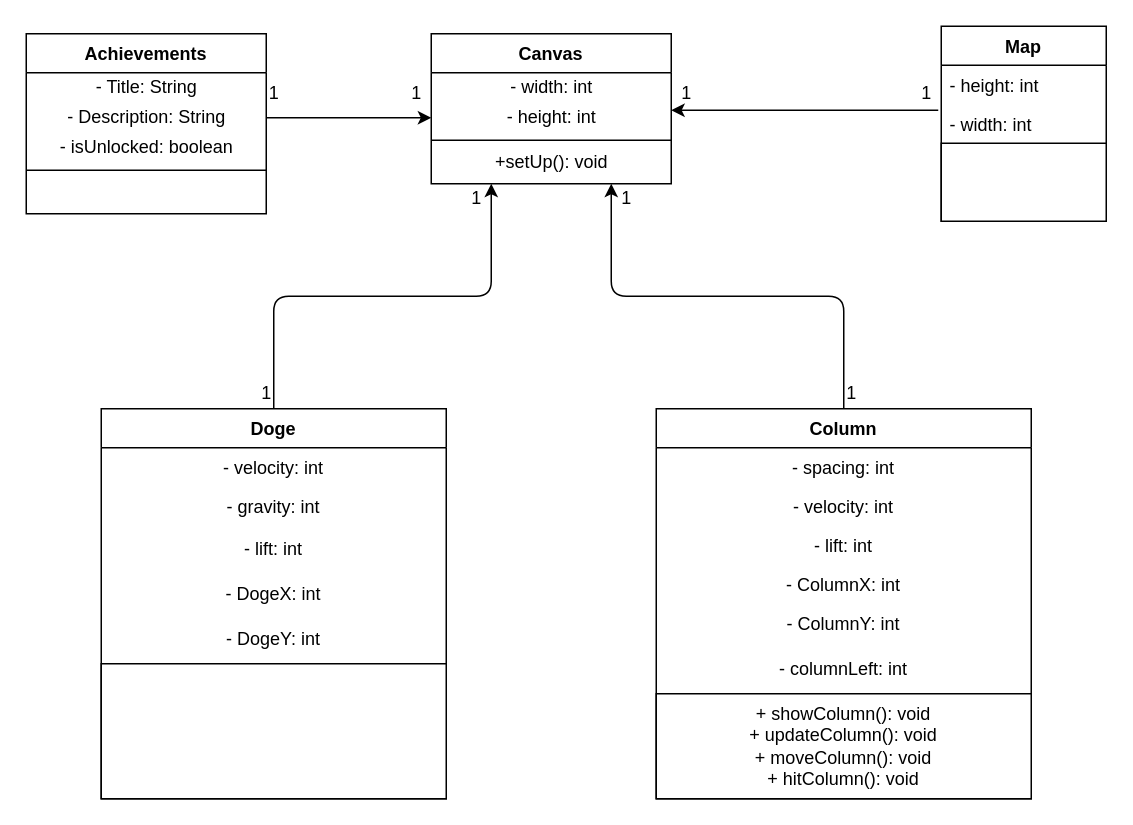
Image size: 1133x825. Some labels were removed from this diagram. The centre of each missing label's shape, as x and y in pixels:
"+ showDoge(): void + updateDoge(): void + moveDoge(): void + hitDoge(): void" belongs at (273,730).
"+draw(): void" belongs at (1023,181).
